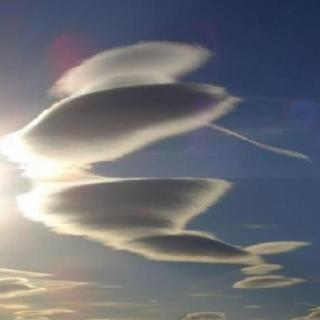Altocumulus: (0, 36, 320, 320)
